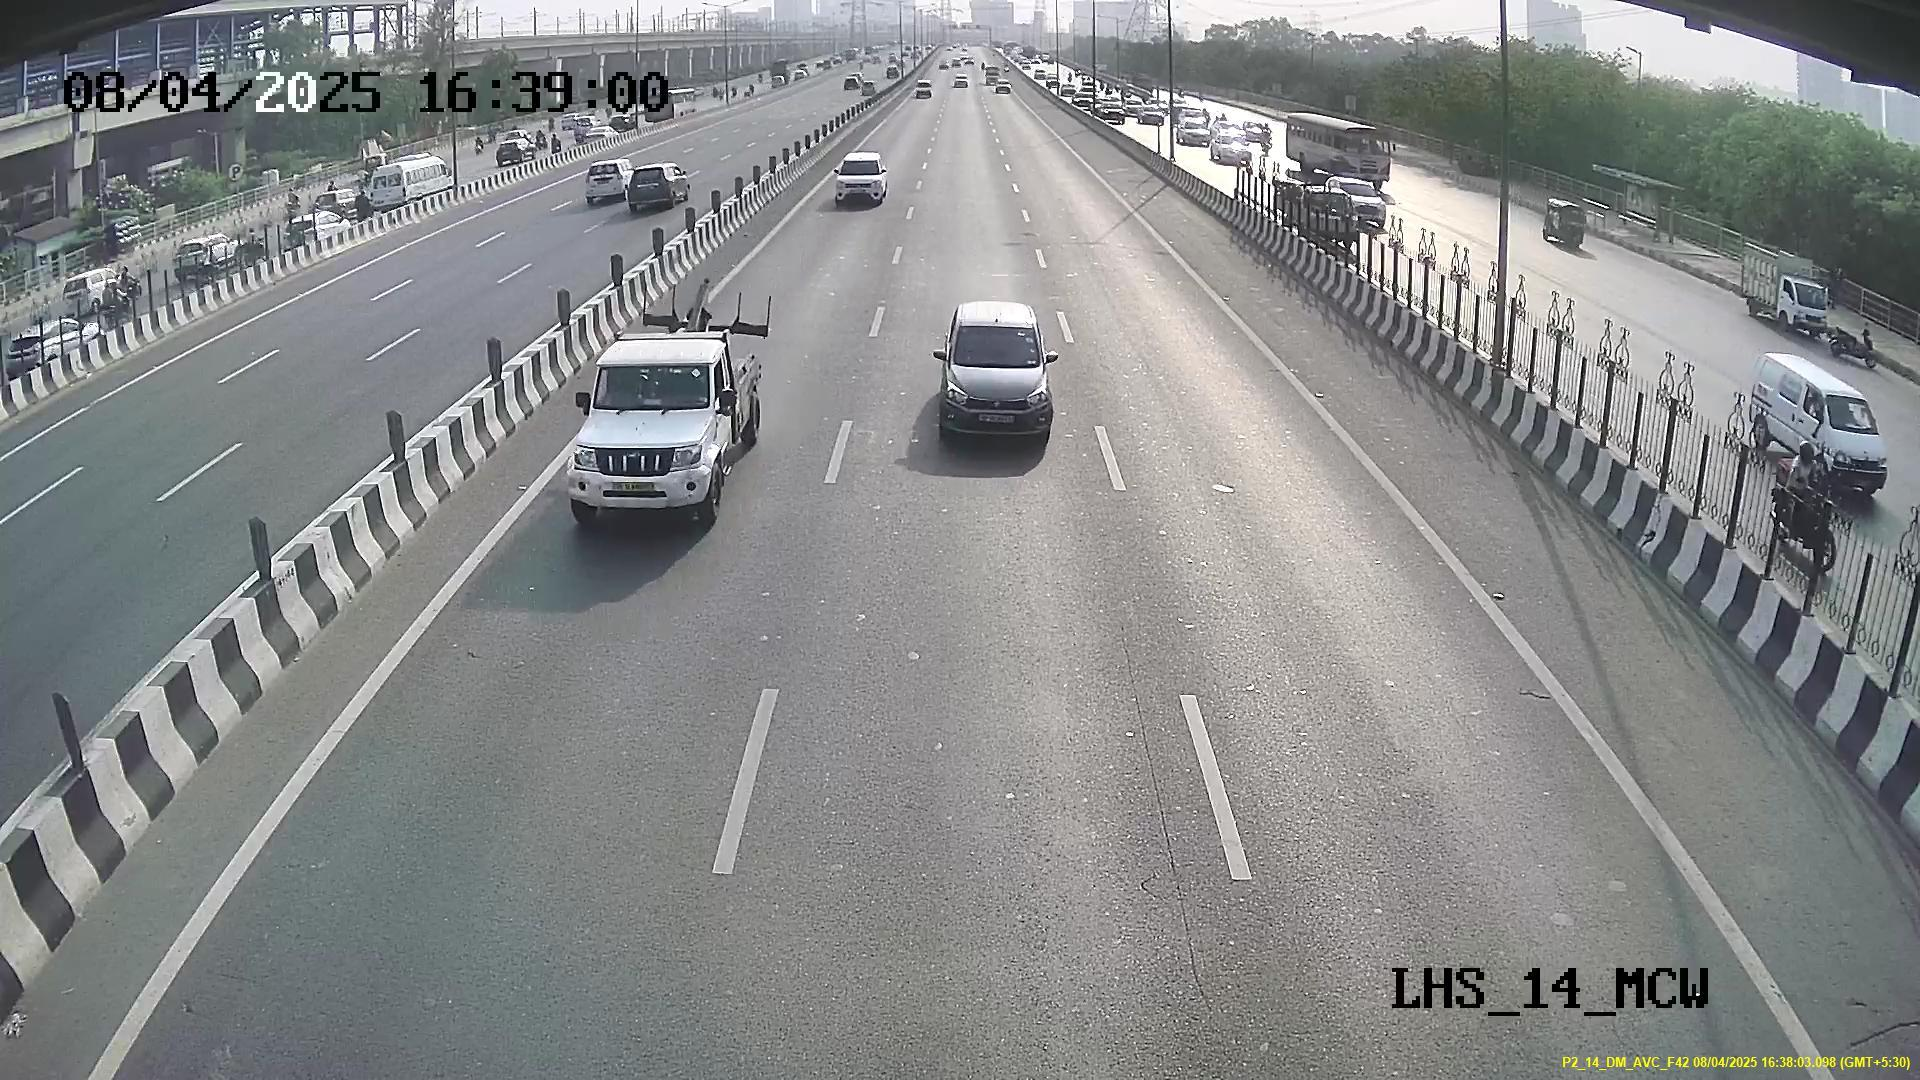car: (568, 331, 736, 525), (936, 320, 1054, 443)
